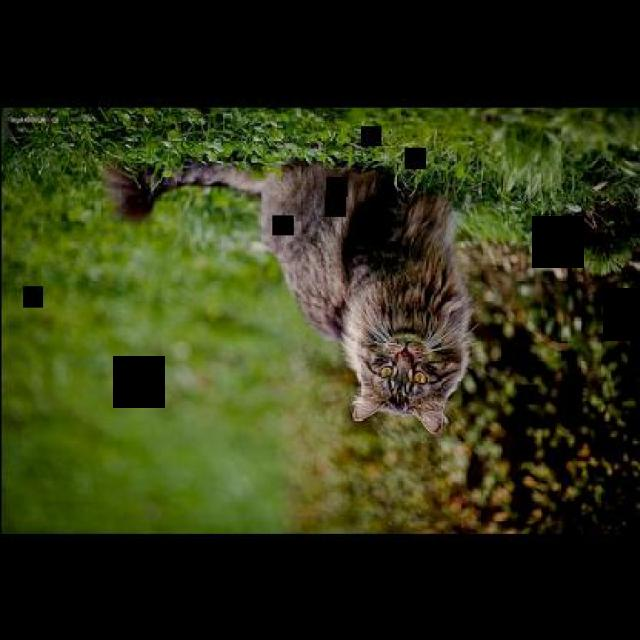unauthorized: (100, 154, 478, 435)
